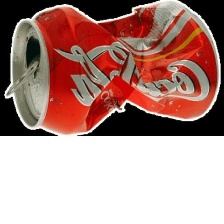can: (0, 0, 224, 138)
